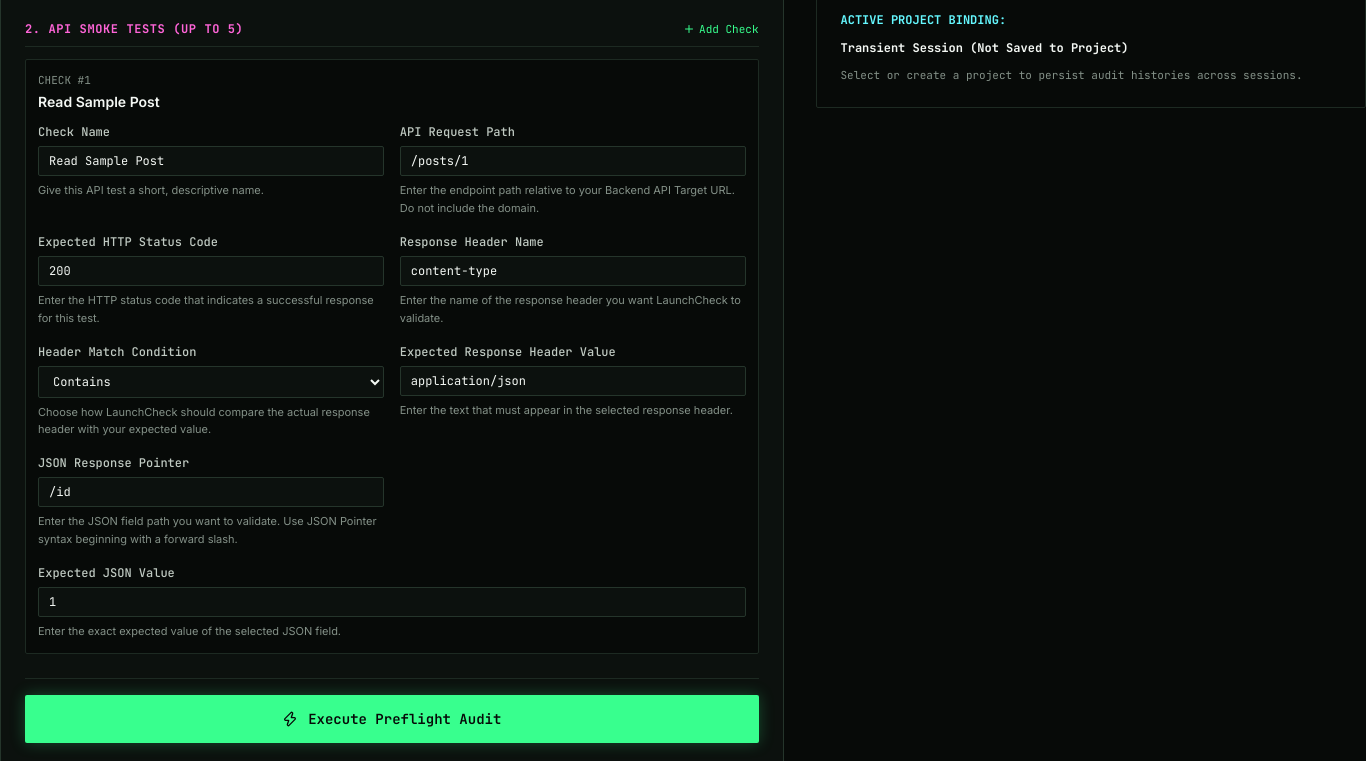
Test: AuditStudio demo configuration › does not report success when the audit request fails
(page scrolled)
Click the button "Execute Preflight Audit" at (392, 719), box x1=25 y1=695 x2=758 y2=743
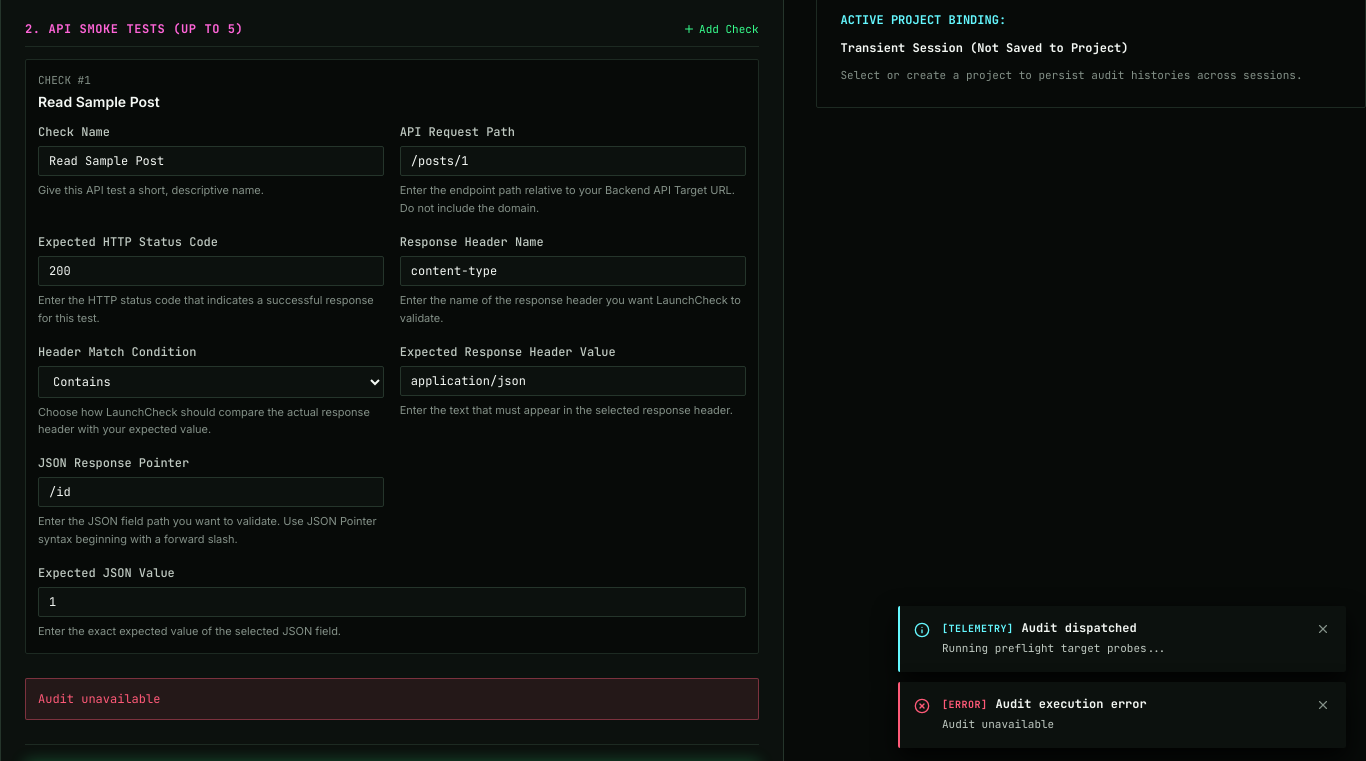
Expected: the text "Audit unavailable" below "Expected JSON Value" is shown, x1=38 y1=691 x2=160 y2=707
